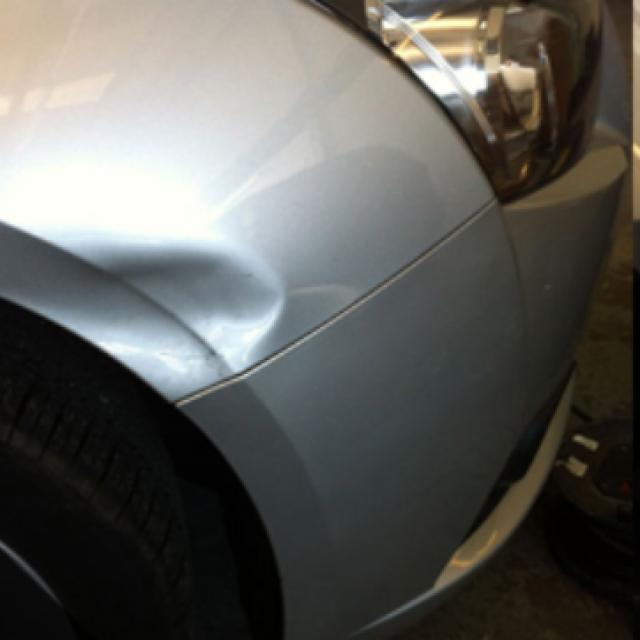dents: (60, 218, 312, 395)
